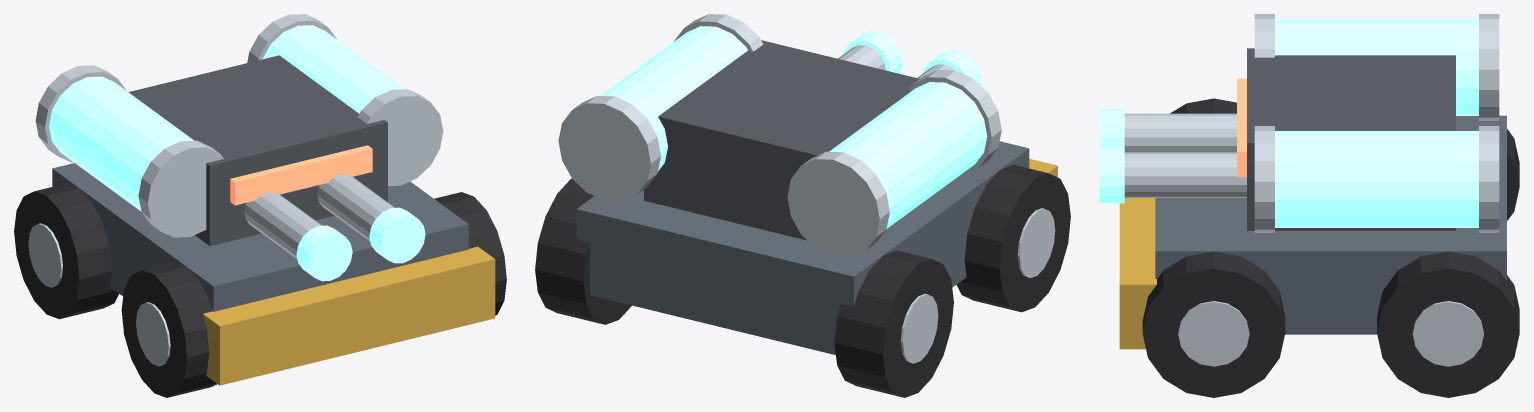
File: enemy_crio_iniettore.glb
3 views of the same model, side by side, from view 1: azimuth 30°, elevation 25°; view 2: azimuth 150°, elevation 25°; view 3: azimuth 270°, elevation 25° (orthographic). The views are drawn at different scales.
Parts seen in each view (by area): view 1: UpperTurret, FrontBumper, CryoChassis, CryoTank_-0.52, Wheel_-0.68_0.46, Wheel_-0.68_-0.46, TankCapFront_-0.52, CryoTank_0.52, TankCapFront_0.52, VisorSlit, CannonBarrel_0.18, CannonBarrel_-0.18 (+7 smaller); view 2: CryoChassis, UpperTurret, CryoTank_-0.52, Wheel_-0.68_0.46, Wheel_-0.68_-0.46, TankCapRear_0.52, TankCapRear_-0.52, CryoTank_0.52, Wheel_0.68_0.46, TankCapFront_-0.52, Hub_-0.68_-0.46, Hub_-0.68_0.46 (+4 smaller); view 3: CryoChassis, CryoTank_0.52, UpperTurret, Wheel_0.68_0.46, Wheel_0.68_-0.46, CryoTank_-0.52, CannonBarrel_0.18, FrontBumper, CannonBarrel_-0.18, Hub_0.68_-0.46, Hub_0.68_0.46, TankCapFront_0.52 (+8 smaller).
Boxes of the visible parts, x1,y1,x2,y2 form: UpperTurret: (128,55,387,245); FrontBumper: (203,246,495,385); CryoChassis: (52,163,468,311); CryoTank_-0.52: (49,76,193,211); Wheel_-0.68_0.46: (14,183,118,319); Wheel_-0.68_-0.46: (121,262,217,397); TankCapFront_-0.52: (138,140,223,237); CryoTank_0.52: (262,25,404,113); TankCapFront_0.52: (358,89,443,185); VisorSlit: (230,145,372,205); CannonBarrel_0.18: (317,174,394,241); CannonBarrel_-0.18: (244,192,321,258); CryoChassis: (576,141,1029,354); UpperTurret: (644,40,919,240); CryoTank_-0.52: (829,82,987,228); Wheel_-0.68_0.46: (834,250,953,397); Wheel_-0.68_-0.46: (956,164,1070,312); TankCapRear_0.52: (558,96,660,201); TankCapRear_-0.52: (787,151,889,256); CryoTank_0.52: (600,26,747,171); Wheel_0.68_0.46: (535,178,631,324); TankCapFront_-0.52: (909,70,1001,175); Hub_-0.68_-0.46: (1017,208,1055,277); Hub_-0.68_0.46: (900,293,938,363); CryoChassis: (1155,115,1506,334); CryoTank_0.52: (1275,131,1478,227); UpperTurret: (1247,48,1455,230); Wheel_0.68_0.46: (1377,251,1519,397); Wheel_0.68_-0.46: (1142,251,1285,397); CryoTank_-0.52: (1275,19,1478,115); CannonBarrel_0.18: (1124,152,1246,197); FrontBumper: (1119,198,1156,349); CannonBarrel_-0.18: (1124,113,1236,152); Hub_0.68_-0.46: (1178,301,1249,366); Hub_0.68_0.46: (1412,301,1483,366); TankCapFront_0.52: (1254,126,1274,232).
Size of the model in its own units: 1.6 by 1.03 by 1.65.
